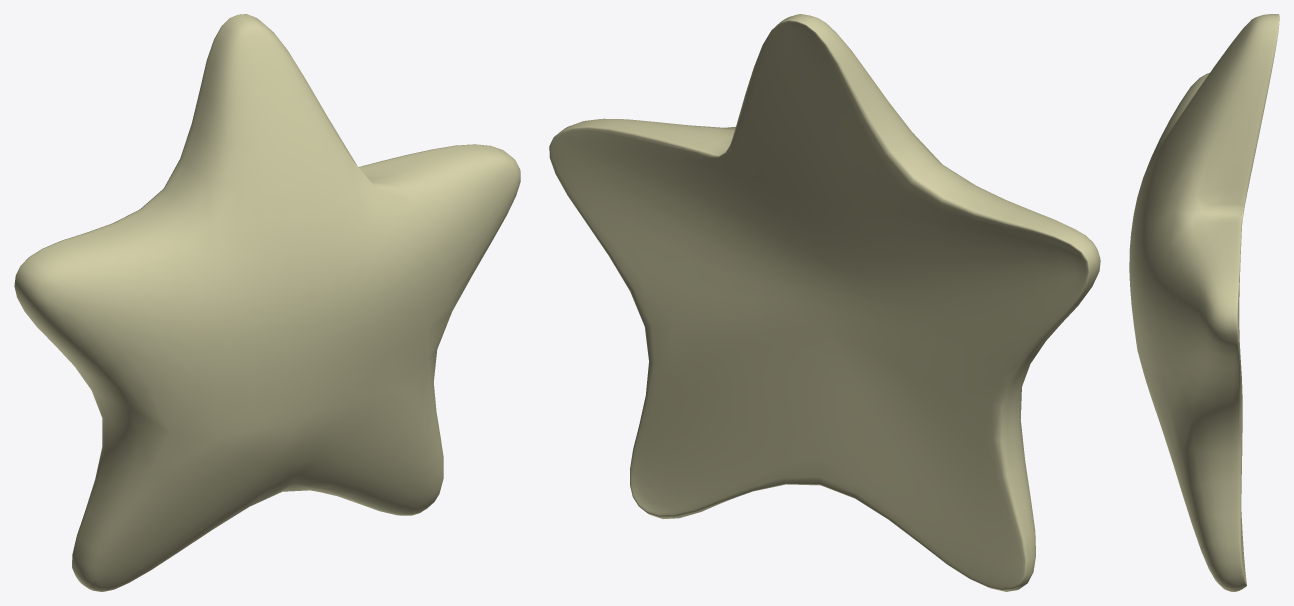
The model's file is Estrella_Mar.fbx.
3 renders of one model, left to right at view 1: azimuth 30°, elevation 25°; view 2: azimuth 150°, elevation 25°; view 3: azimuth 270°, elevation 25°, orthographic. The views are drawn at different scales.
Visible parts, largest first — view 1: Estrella_Mar; view 2: Estrella_Mar; view 3: Estrella_Mar.
Boxes of the visible parts, x1,y1,x2,y2 form: Estrella_Mar: (14, 14, 520, 591); Estrella_Mar: (549, 14, 1100, 591); Estrella_Mar: (1129, 14, 1279, 591).
Size of the model in its own units: 3.72 by 3.67 by 0.9948.
